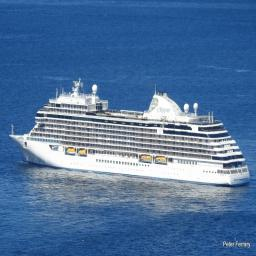cruises: (7, 74, 256, 192)
